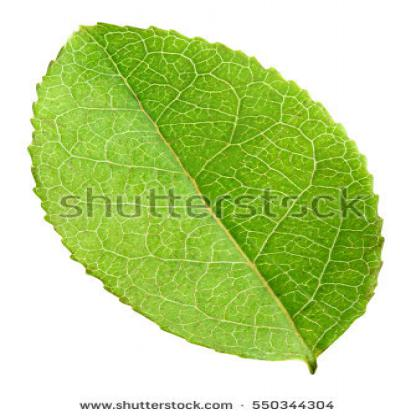blueberry leaf: (25, 11, 396, 379)
